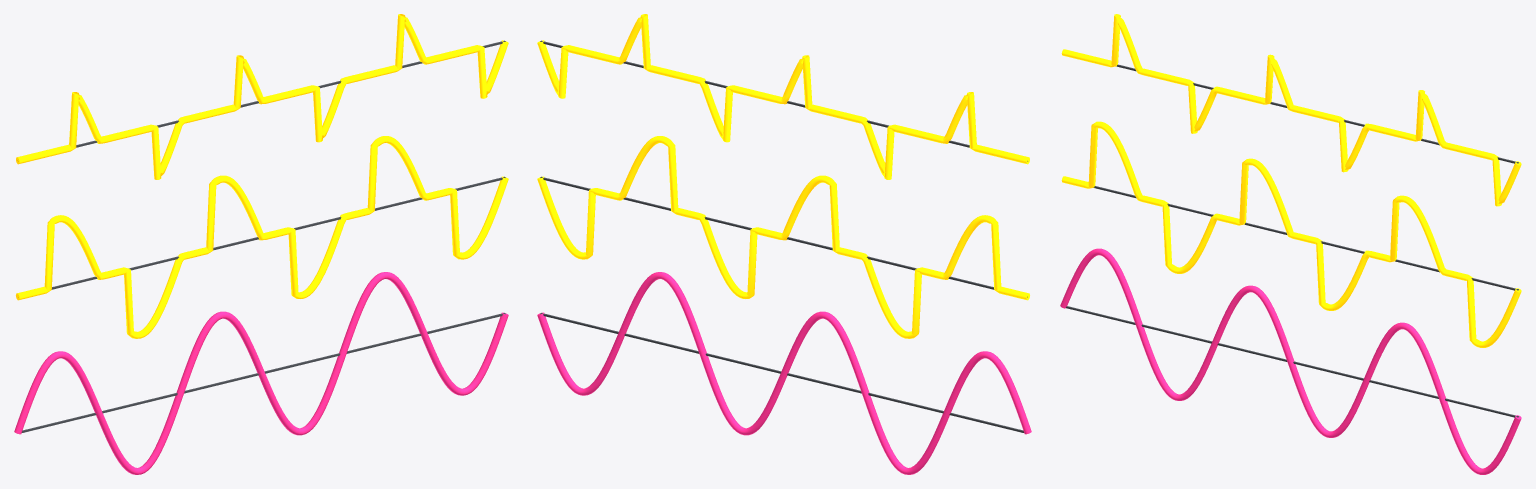
Rendered from soft_starter_waveforms.glb.
The picture shows the model from 3 angles, left to right: view 1: azimuth 30°, elevation 25°; view 2: azimuth 150°, elevation 25°; view 3: azimuth 330°, elevation 25°; orthographic projection. The views are drawn at different scales.
Visible parts, largest first — view 1: waveforms; view 2: waveforms; view 3: waveforms.
Part boxes in pixels (x1,y1,x2,y2): waveforms: (14, 14, 508, 474); waveforms: (537, 14, 1031, 474); waveforms: (1060, 14, 1521, 474).
Size of the model in its own units: 0.6074 by 0.4674 by 0.008.
